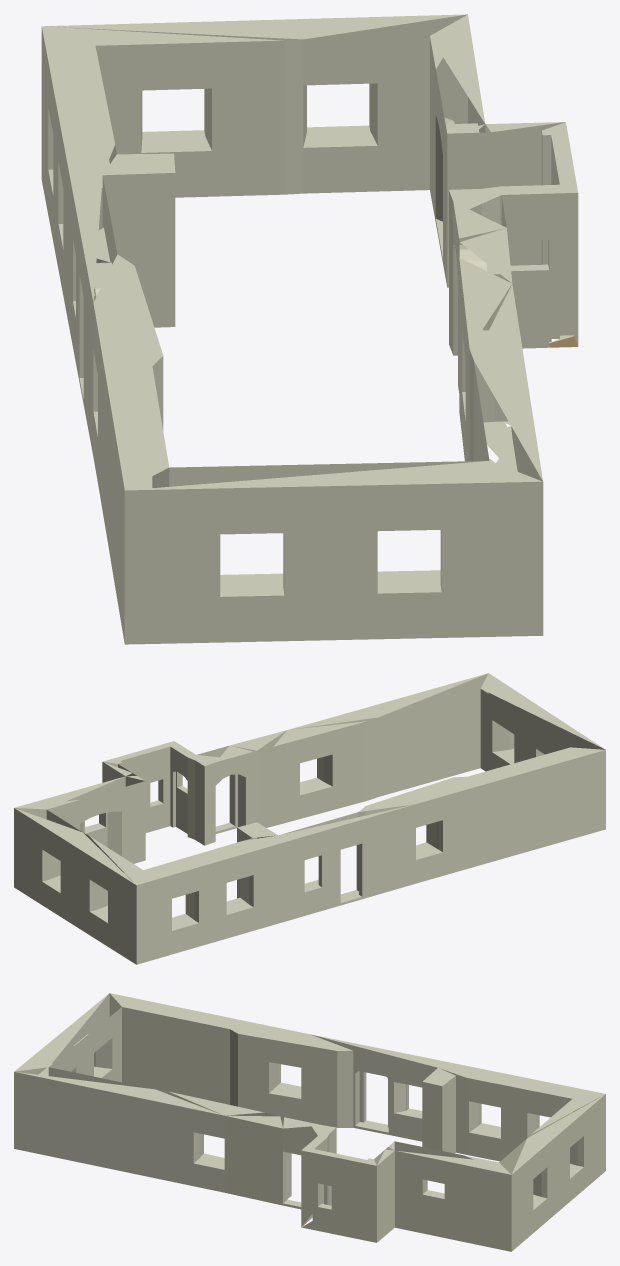
The model's file is obvodove_steny.dae.
3 renders of one model, top to bottom at view 1: azimuth 30°, elevation 25°; view 2: azimuth 150°, elevation 25°; view 3: azimuth 270°, elevation 25°, orthographic. The views are drawn at different scales.
Parts seen in each view (by area): view 1: SketchUp (×13); view 2: SketchUp (×11); view 3: SketchUp (×16).
Boxes of the visible parts, x1=… form: SketchUp (×13): x1=41, y1=14, x2=578, y2=644; SketchUp (×11): x1=14, y1=673, x2=605, y2=964; SketchUp (×16): x1=14, y1=993, x2=605, y2=1251.
Size of the model in its own units: 622 by 856 by 123.
